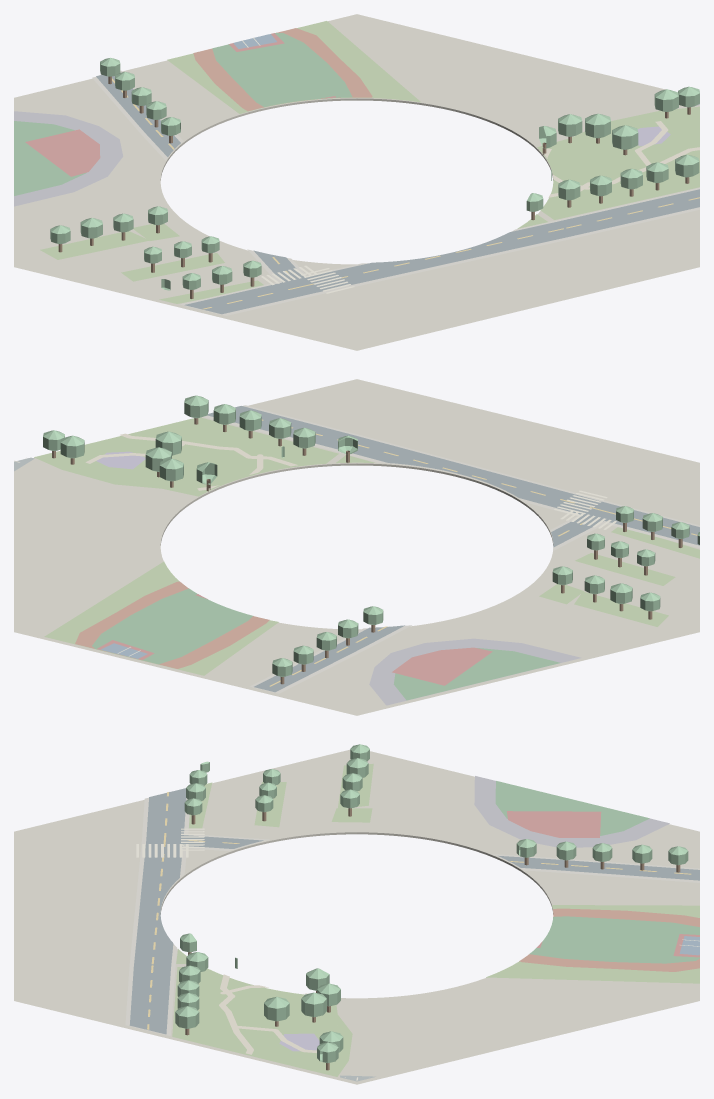
File: surround-W1.glb
The picture shows the model from 3 angles, top to bottom: view 1: azimuth 30°, elevation 25°; view 2: azimuth 150°, elevation 25°; view 3: azimuth 270°, elevation 25°; orthographic projection.
Visible parts, largest first — view 1: W1_ground, W1_lawn, W1_leaf, W1_road, W1_sportsgrass, W1_paving, W1_graytrack, W1_track, W1_courtborder, W1_trunk, W1_white, W1_path (+1 smaller); view 2: W1_ground, W1_lawn, W1_leaf, W1_sportsgrass, W1_road, W1_graytrack, W1_paving, W1_track, W1_courtborder, W1_path, W1_trunk, W1_white (+1 smaller); view 3: W1_ground, W1_lawn, W1_road, W1_leaf, W1_sportsgrass, W1_paving, W1_track, W1_graytrack, W1_courtborder, W1_path, W1_white, W1_yellow.
Part boxes in pixels (x1,y1,x2,y2): W1_ground: [14, 14, 699, 350]; W1_lawn: [40, 21, 699, 303]; W1_leaf: [50, 58, 699, 290]; W1_road: [96, 75, 699, 314]; W1_sportsgrass: [14, 32, 352, 195]; W1_paving: [92, 70, 699, 315]; W1_graytrack: [14, 111, 123, 206]; W1_track: [193, 28, 372, 111]; W1_courtborder: [25, 33, 336, 176]; W1_trunk: [58, 76, 690, 298]; W1_white: [242, 37, 354, 293]; W1_path: [544, 121, 699, 197]; W1_ground: [14, 379, 699, 715]; W1_lawn: [34, 417, 699, 675]; W1_leaf: [43, 395, 699, 676]; W1_sportsgrass: [92, 588, 560, 700]; W1_road: [207, 406, 699, 692]; W1_graytrack: [369, 638, 581, 705]; W1_paving: [203, 405, 699, 693]; W1_track: [75, 581, 269, 668]; W1_courtborder: [97, 594, 492, 685]; W1_path: [85, 433, 297, 490]; W1_trunk: [52, 418, 682, 684]; W1_white: [14, 457, 616, 656]; W1_ground: [14, 749, 699, 1084]; W1_lawn: [172, 763, 699, 1076]; W1_road: [129, 788, 699, 1034]; W1_leaf: [175, 744, 688, 1063]; W1_sportsgrass: [495, 781, 699, 963]; W1_paving: [125, 797, 699, 1035]; W1_track: [519, 908, 699, 971]; W1_graytrack: [474, 776, 669, 847]; W1_courtborder: [507, 811, 699, 957]; W1_path: [219, 974, 316, 1054]; W1_white: [136, 828, 699, 1080]; W1_yellow: [147, 792, 691, 1029].
Bounding box in the file's own units: 16.16 × 0.7202 × 14.
